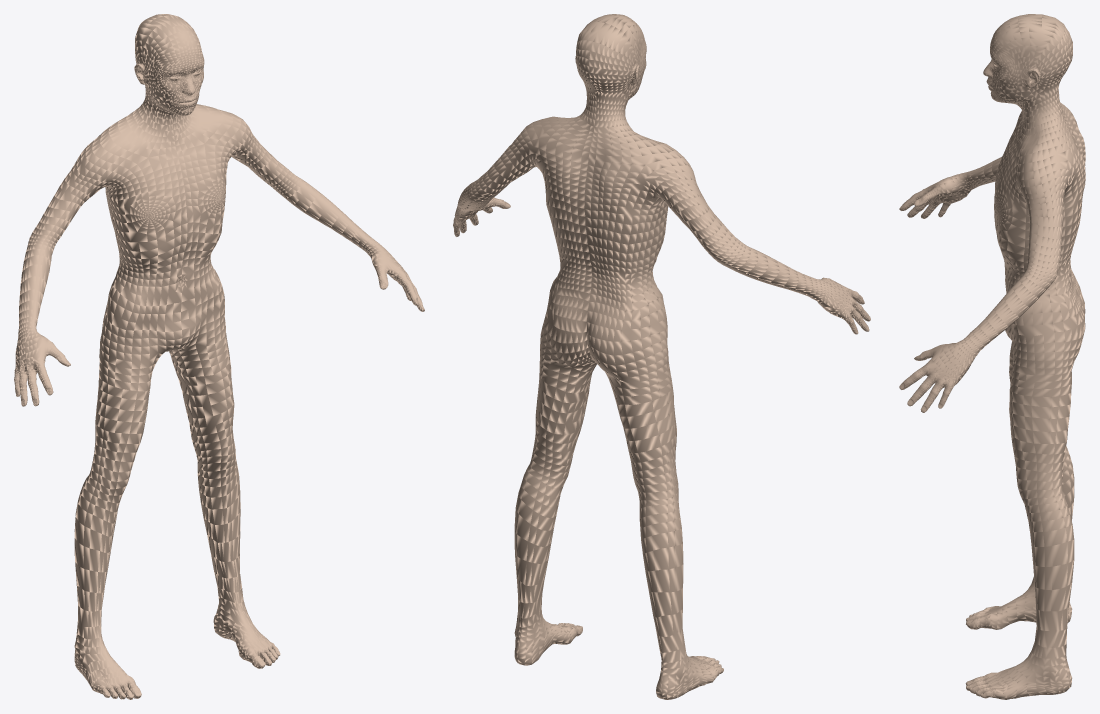
Rendered from male_low_low.glb.
The picture shows the model from 3 angles, left to right: view 1: azimuth 30°, elevation 25°; view 2: azimuth 150°, elevation 25°; view 3: azimuth 270°, elevation 25°; orthographic projection.
Visible parts, largest first — view 1: male_low_lowMesh; view 2: male_low_lowMesh; view 3: male_low_lowMesh.
Boxes of the visible parts, x1,y1,x2,y2 form: male_low_lowMesh: [14, 14, 424, 699]; male_low_lowMesh: [453, 14, 870, 699]; male_low_lowMesh: [899, 14, 1085, 699].
Size of the model in its own units: 11.22 by 17.17 by 4.52.
